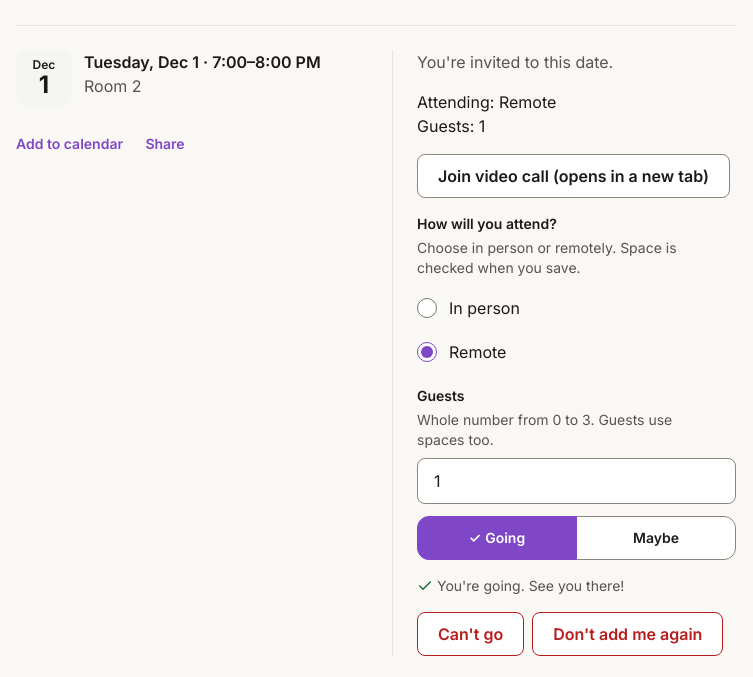
confirms Can't go with safe scope copy, clears every disclosure, and never falls back
(page scrolled)
Click the button "Can't go": (471, 634) [417,612,524,656]
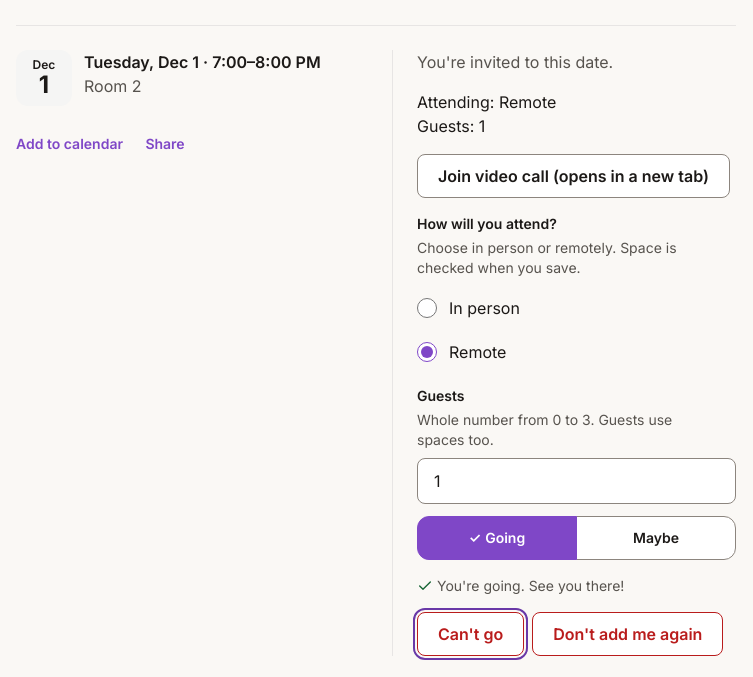
Click the button "Can't go": (471, 634) [417,612,524,656]
(page scrolled)
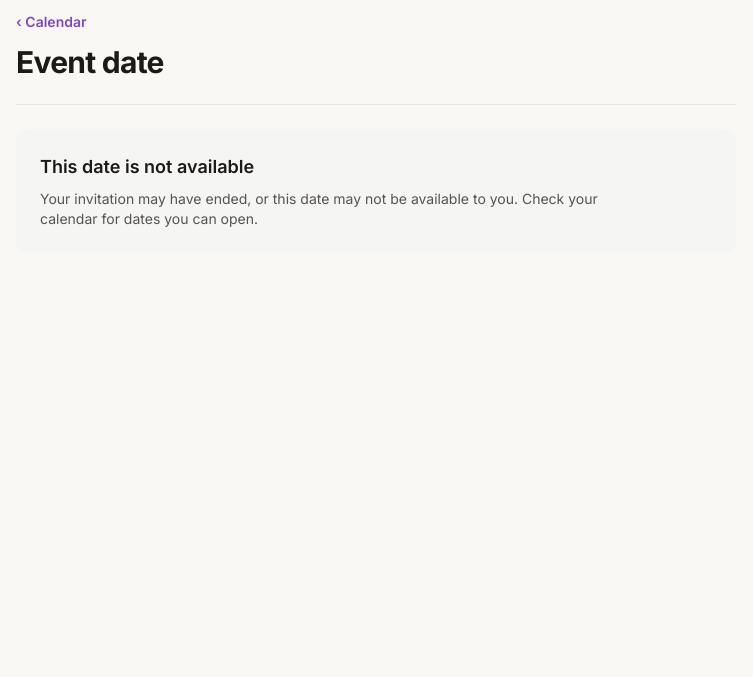
Now the text "This date is not available" is shown, box [40,156,254,177]
Now the text "Room 2" is gone
Now the link "Join video call" is gone
